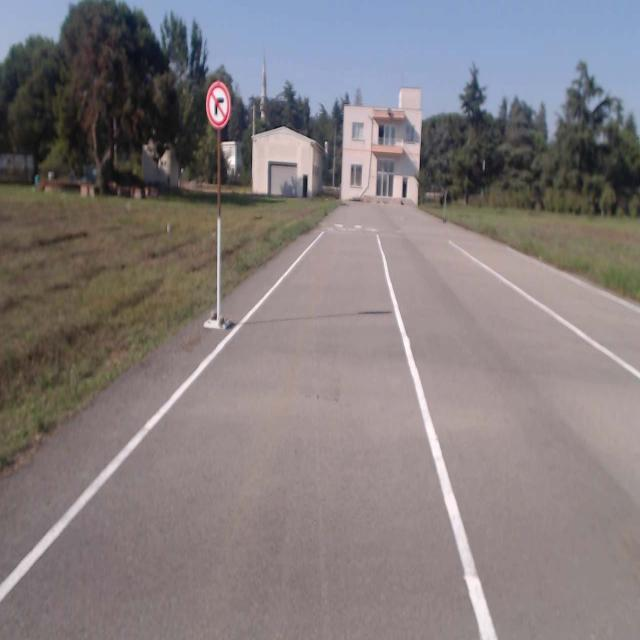sagadonulmez: (206, 81, 230, 129)
